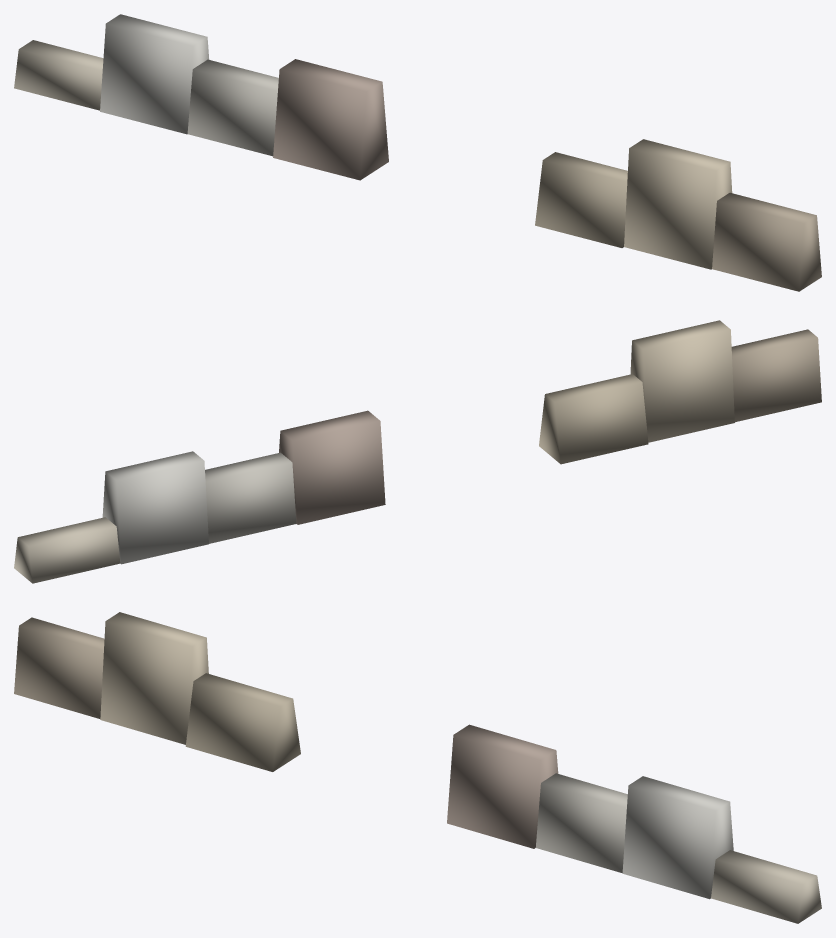
File: farm_25_14_collision.glb
3 views of the same model, one above another, from view 1: azimuth 90°, elevation 25°; view 2: azimuth 150°, elevation 25°; view 3: azimuth 270°, elevation 25° (orthographic). The views are drawn at different scales.
Visible parts, largest first — view 1: geometry_0; view 2: geometry_0; view 3: geometry_0.
Part boxes in pixels (<box>): geometry_0: <box>14,14,821,291</box>; geometry_0: <box>14,320,821,583</box>; geometry_0: <box>14,612,821,923</box>.
Size of the model in its own units: 7.73 by 1.66 by 11.38.
